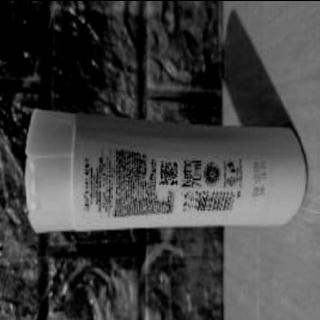objects: (19, 109, 310, 232)
